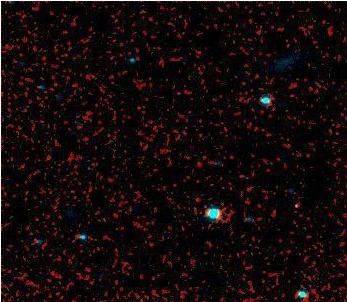star: (282, 190, 312, 220)
